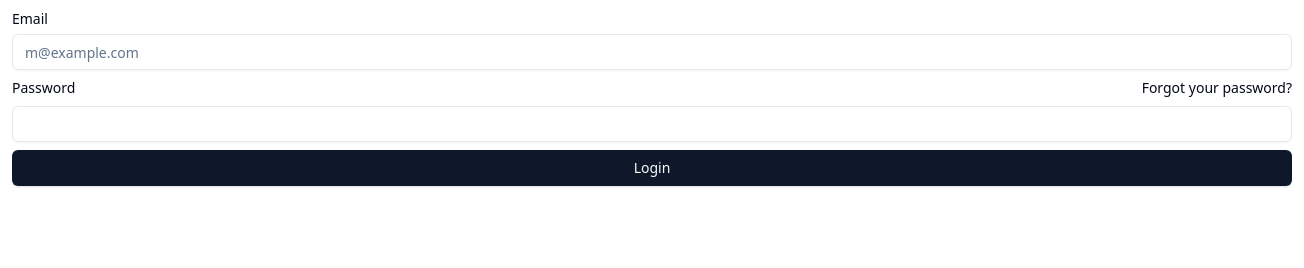
Test: LoginForm › handles unexpected errors during submission
Type "test@example.com" into the field labelled "Email".
click(652, 52); type("test@example.com")  # box x1=12 y1=34 x2=1292 y2=70
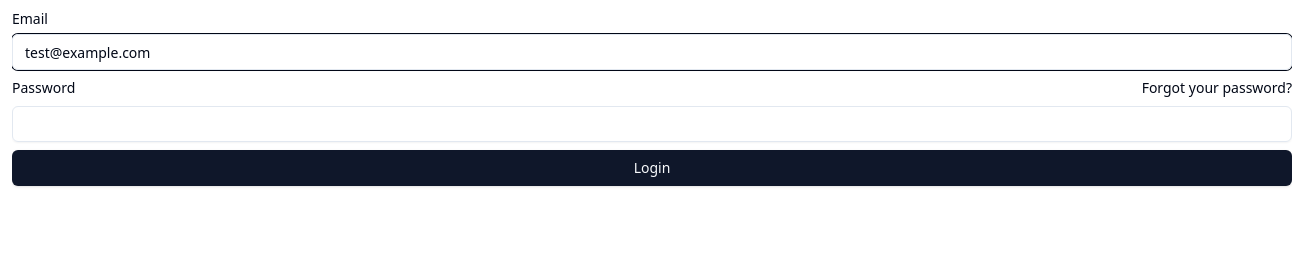
Type "password123" into the password field labelled "Password".
click(652, 124); type("password123")  # box x1=12 y1=106 x2=1292 y2=142
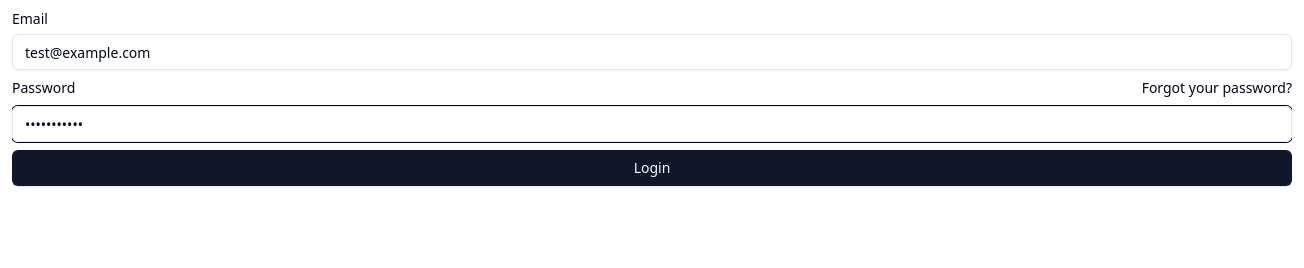
Click the button "Login".
click(652, 168)  # box x1=12 y1=150 x2=1292 y2=186
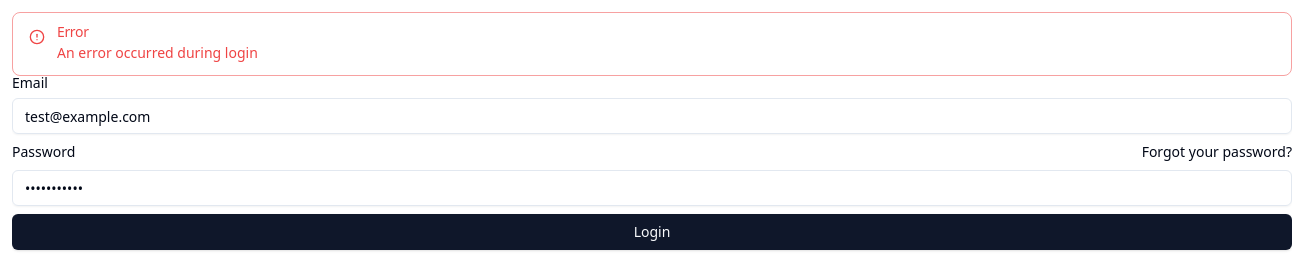
Expected: the list item "An error occurred during login" is shown, x1=57 y1=43 x2=258 y2=62
